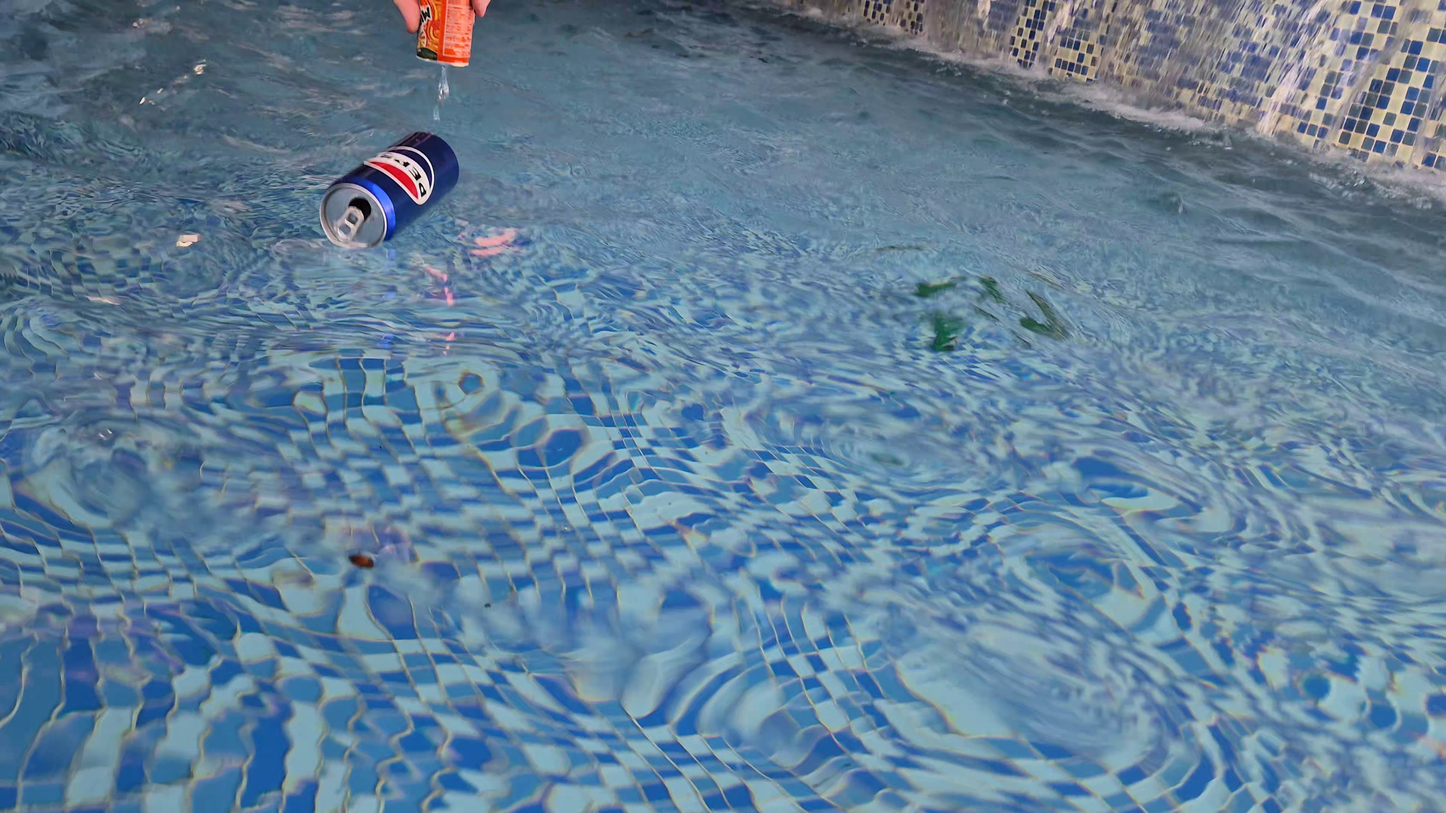debris: (310, 125, 465, 254), (409, 0, 482, 70)
